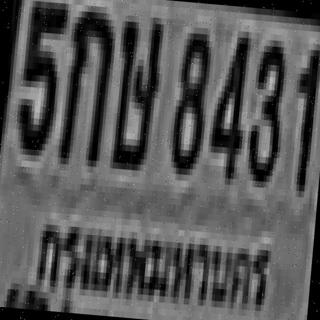A01: (54, 0, 116, 161)
A39: (109, 8, 163, 165)
N01: (288, 42, 320, 191)
N03: (244, 32, 287, 182)
N04: (206, 23, 249, 179)
N05: (14, 0, 66, 150)
N08: (168, 26, 210, 170)
P04: (25, 199, 278, 320)
